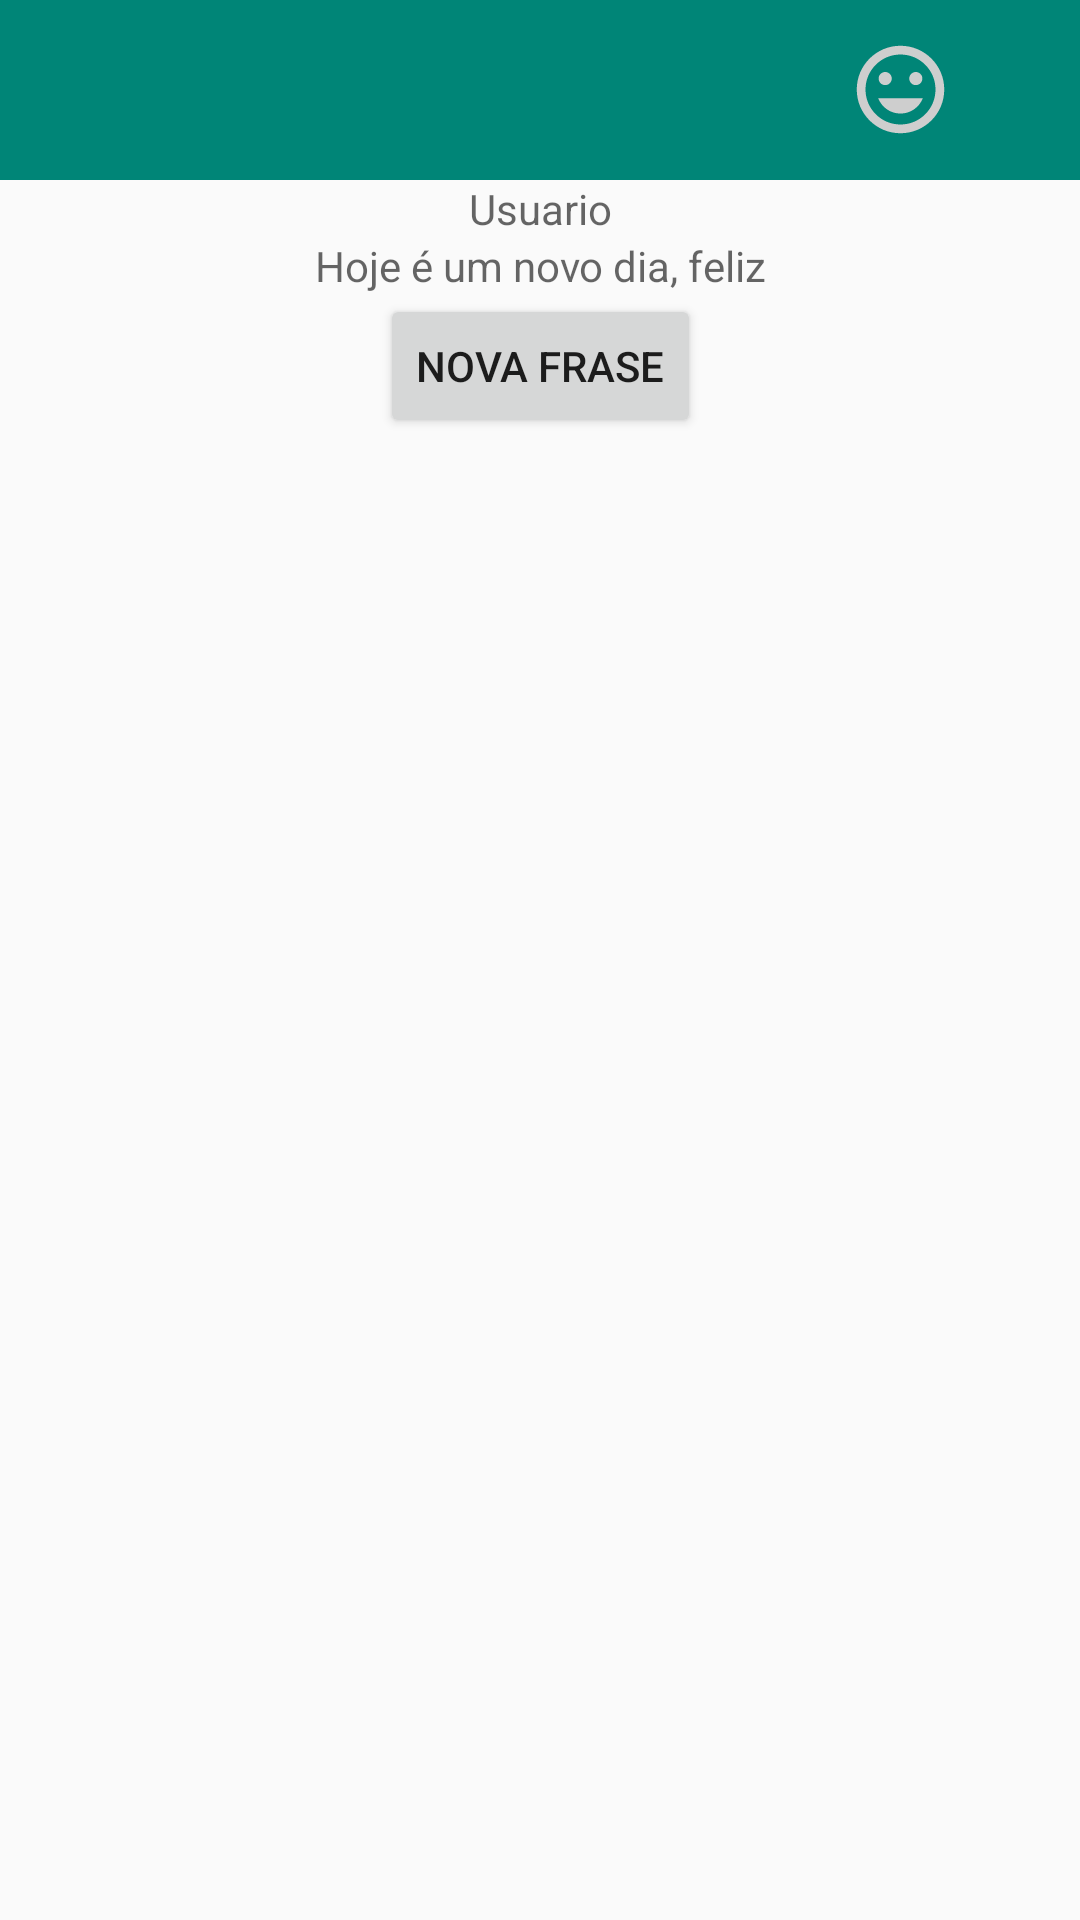

Icon bounding boxes for this 1080px×1920px phone screenshot, format {"x1": x1, "y1": y1, "x2": x2, "y2": y2}:
happy no select: {"x1": 856, "y1": 45, "x2": 945, "y2": 134}
